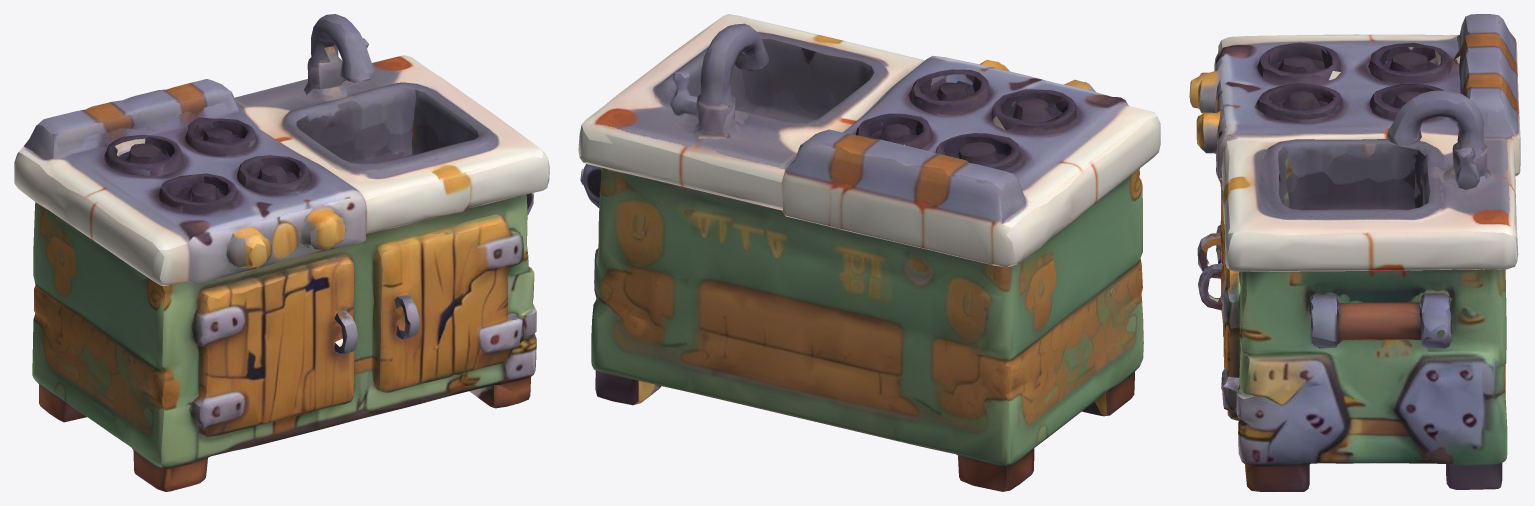
The model's file is kitchen.glb.
3 views of the same model, side by side, from view 1: azimuth 30°, elevation 25°; view 2: azimuth 150°, elevation 25°; view 3: azimuth 270°, elevation 25° (orthographic). The views are drawn at different scales.
Visible parts, largest first — view 1: kitchen_s41; view 2: kitchen_s41; view 3: kitchen_s41.
Part boxes in pixels (x1,y1,x2,y2): kitchen_s41: [14, 14, 549, 491]; kitchen_s41: [578, 14, 1160, 491]; kitchen_s41: [1189, 14, 1520, 491].
Bounding box in the file's own units: 1 × 0.7547 × 0.6437.
Materials: 1 (1 with a texture image).
